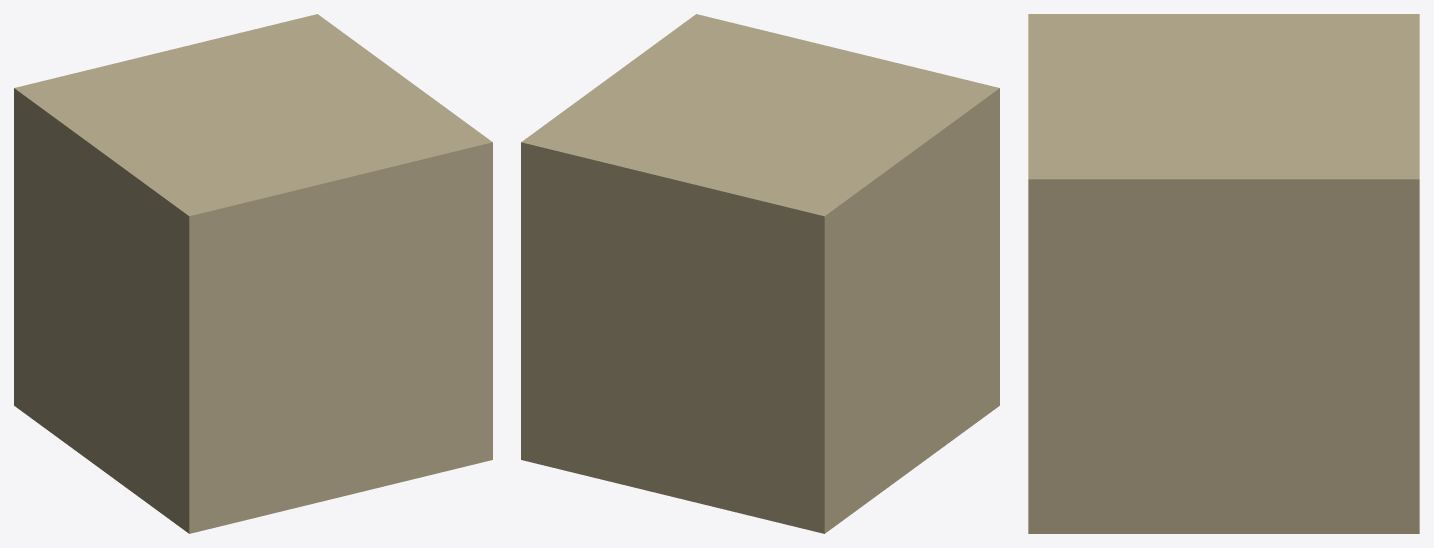
Rendered from stew.obj.
The picture shows the model from 3 angles, left to right: view 1: azimuth 30°, elevation 25°; view 2: azimuth 150°, elevation 25°; view 3: azimuth 270°, elevation 25°; orthographic projection. The views are drawn at different scales.
Visible parts, largest first — view 1: Meat_0.001_bone; view 2: Meat_0.001_bone; view 3: Meat_0.001_bone.
Part boxes in pixels (x1,y1,x2,y2): Meat_0.001_bone: [14, 14, 492, 533]; Meat_0.001_bone: [521, 14, 999, 533]; Meat_0.001_bone: [1028, 14, 1419, 533].
Bounding box in the file's own units: 1 × 1 × 1.
